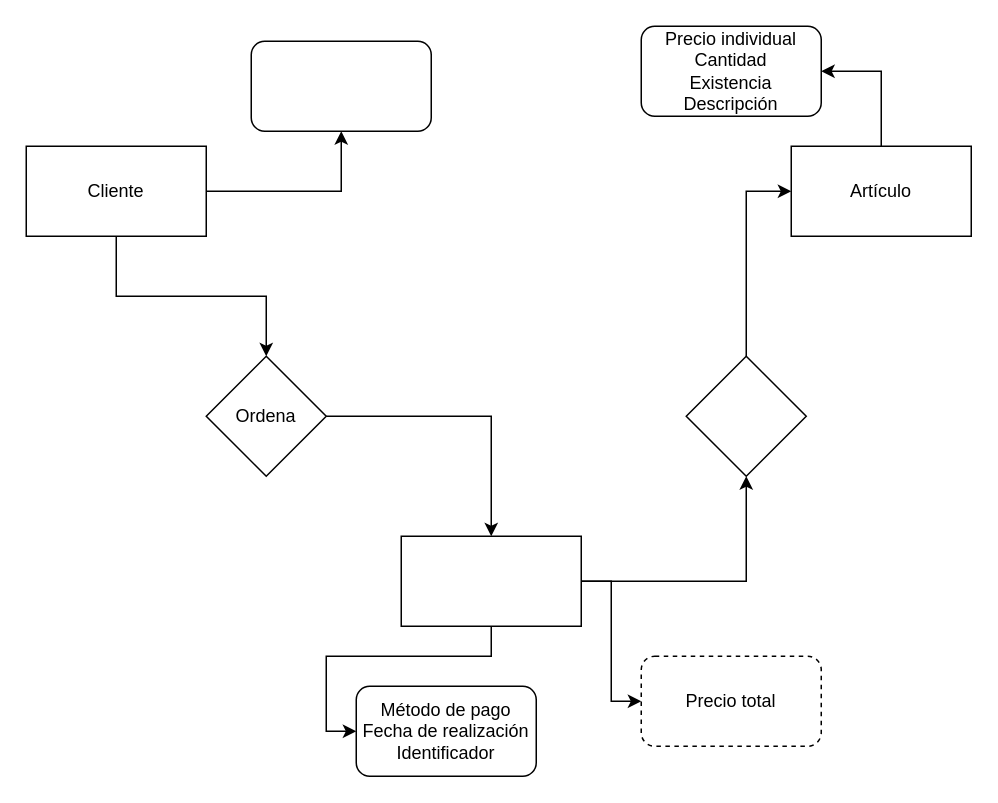
The diagram is 998 pixels wide and 803 high, and some of its shapes have lost their labels. The shapes that lost their labels are listed below. From the top down, each one's centre as x and y in pixels, then its label:
At point (340, 85): "Nombre Identificador Dirección".
At point (745, 415): "Contiene".
At point (490, 580): "Pedido".
